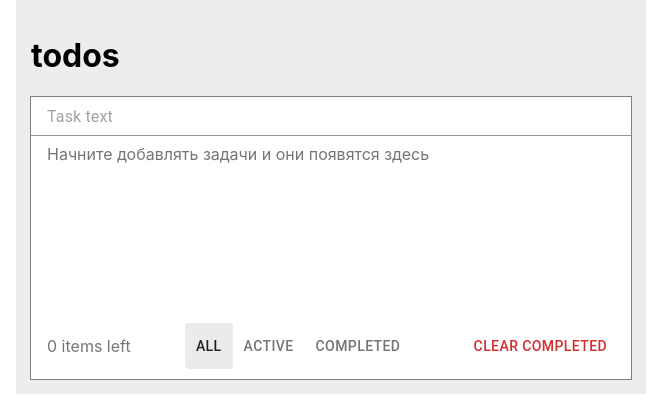
app works correctly with routes › should add, complete and delete todo
Type "Test App" into the field with placeholder "Task text" at coordinates (331, 117), box top-left (31, 97), bottom-right (631, 136)
Then press Enter
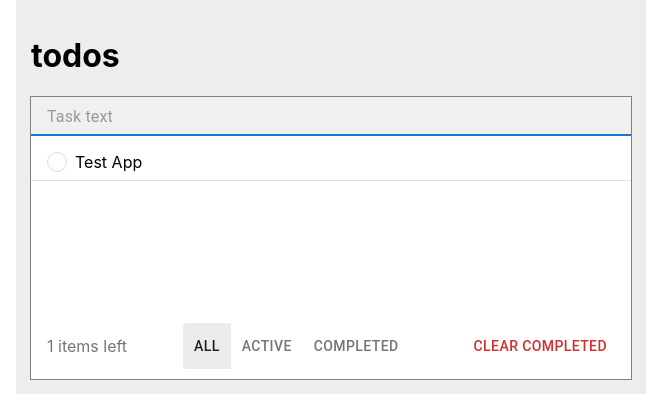
Check: the checkbox "Test App" is shown
Click the checkbox labelled "Test App" at coordinates (95, 162), box top-left (47, 152), bottom-right (142, 172)
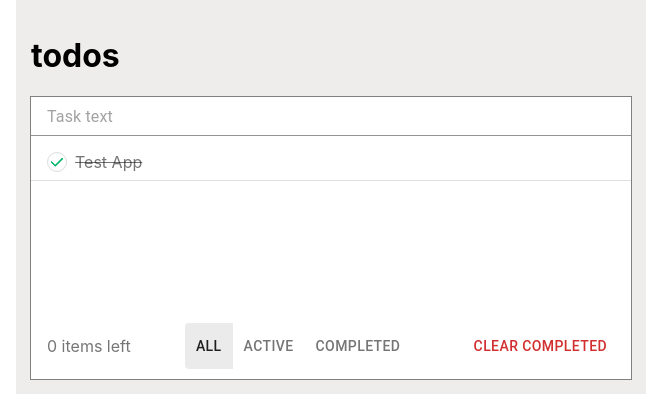
Click the button "Completed" at coordinates (358, 347), box top-left (304, 323), bottom-right (412, 370)
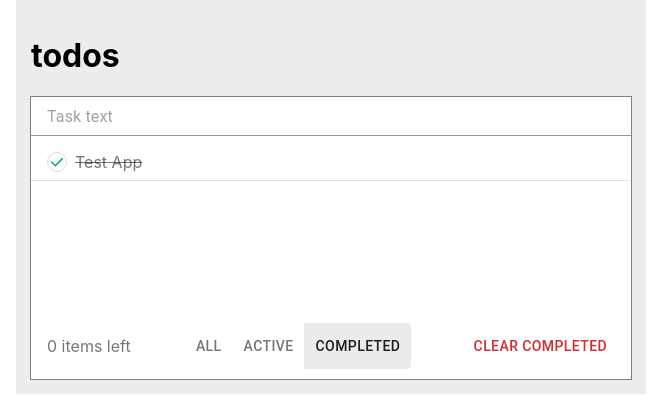
Check: the checkbox "Test App" is shown, box top-left (47, 152), bottom-right (142, 172)
Click the button "Clear completed" at coordinates (541, 347), box top-left (466, 328), bottom-right (615, 365)
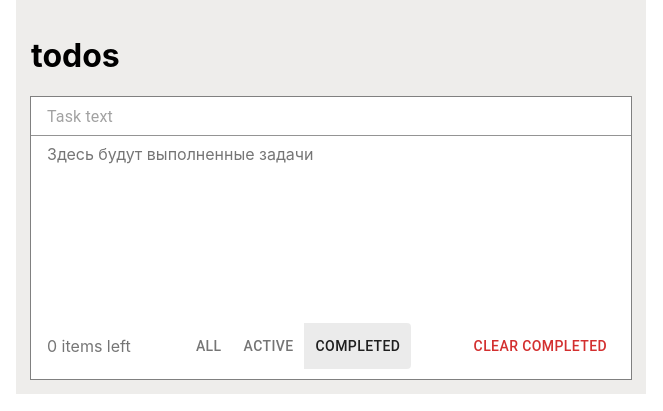
Check: the text "Здесь будут выполненные задачи" is shown, box top-left (47, 144), bottom-right (313, 164)
